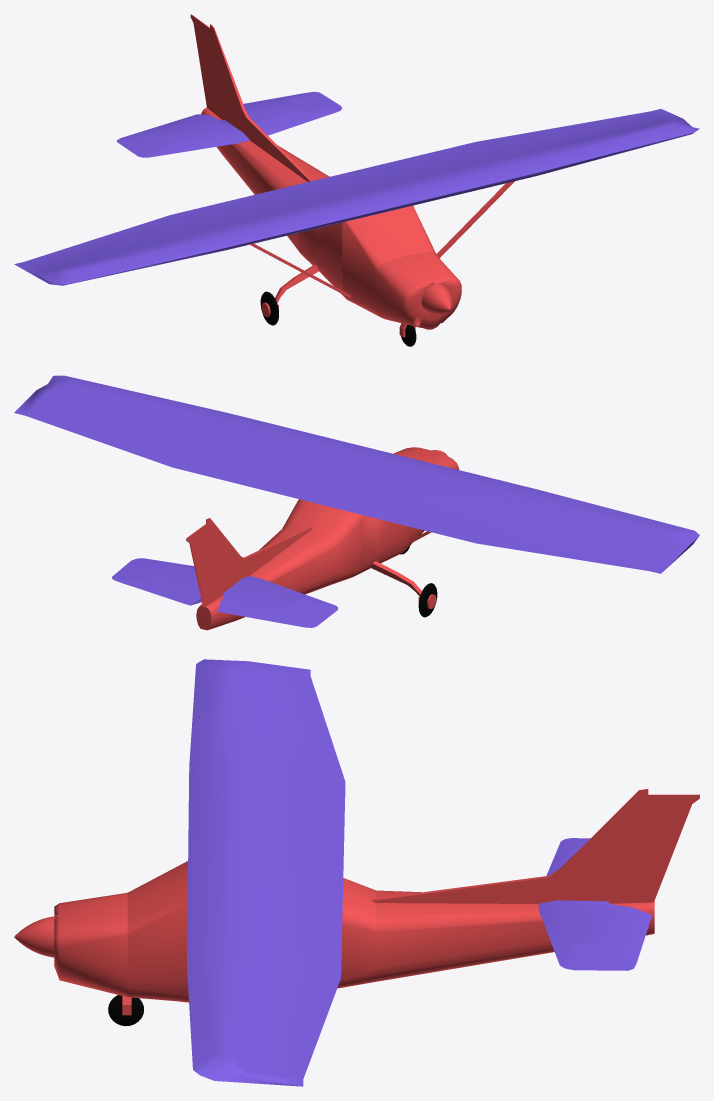
The model's file is drone.glb.
3 renders of one model, top to bottom at view 1: azimuth 30°, elevation 25°; view 2: azimuth 150°, elevation 25°; view 3: azimuth 270°, elevation 25°, orthographic. The views are drawn at different scales.
Parts seen in each view (by area): view 1: instance_0.002, instance_0.001, instance_0, instance_0.007, instance_0.008, instance_0.013; view 2: instance_0.002, instance_0.001, instance_0, instance_0.007, instance_0.011; view 3: instance_0.002, instance_0.001, instance_0.007, instance_0, instance_0.008, instance_0.006.
Part boxes in pixels (x1=…): instance_0.002: x1=14, y1=109, x2=699, y2=285; instance_0.001: x1=201, y1=107, x2=461, y2=329; instance_0: x1=117, y1=91, x2=342, y2=157; instance_0.007: x1=190, y1=14, x2=312, y2=181; instance_0.008: x1=421, y1=284, x2=452, y2=314; instance_0.013: x1=436, y1=181, x2=514, y2=258; instance_0.002: x1=14, y1=375, x2=699, y2=573; instance_0.001: x1=196, y1=447, x2=459, y2=630; instance_0: x1=112, y1=558, x2=337, y2=627; instance_0.007: x1=186, y1=518, x2=312, y2=606; instance_0.011: x1=371, y1=561, x2=421, y2=595; instance_0.002: x1=187, y1=659, x2=345, y2=1086; instance_0.001: x1=54, y1=861, x2=654, y2=1002; instance_0.007: x1=371, y1=789, x2=699, y2=903; instance_0: x1=538, y1=838, x2=652, y2=970; instance_0.008: x1=14, y1=916, x2=54, y2=957; instance_0.006: x1=108, y1=995, x2=143, y2=1026.
Bounding box in the file's own units: 12.71 × 3.36 × 8.83.
